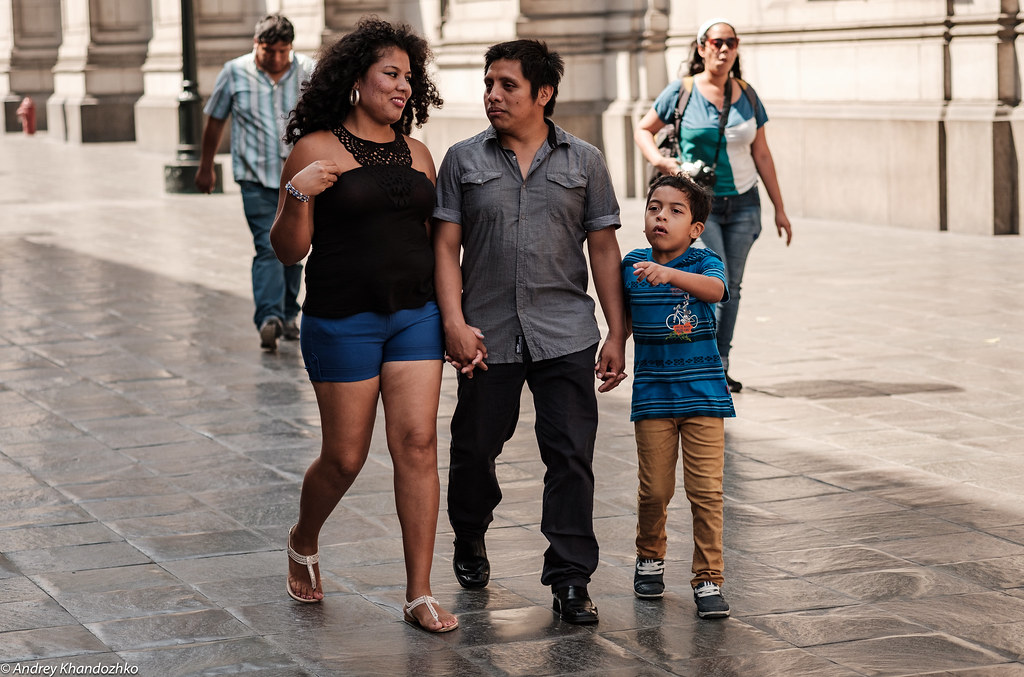Person: (262, 20, 473, 646), (438, 35, 638, 638), (598, 175, 749, 635), (653, 20, 804, 398), (186, 6, 324, 346)
